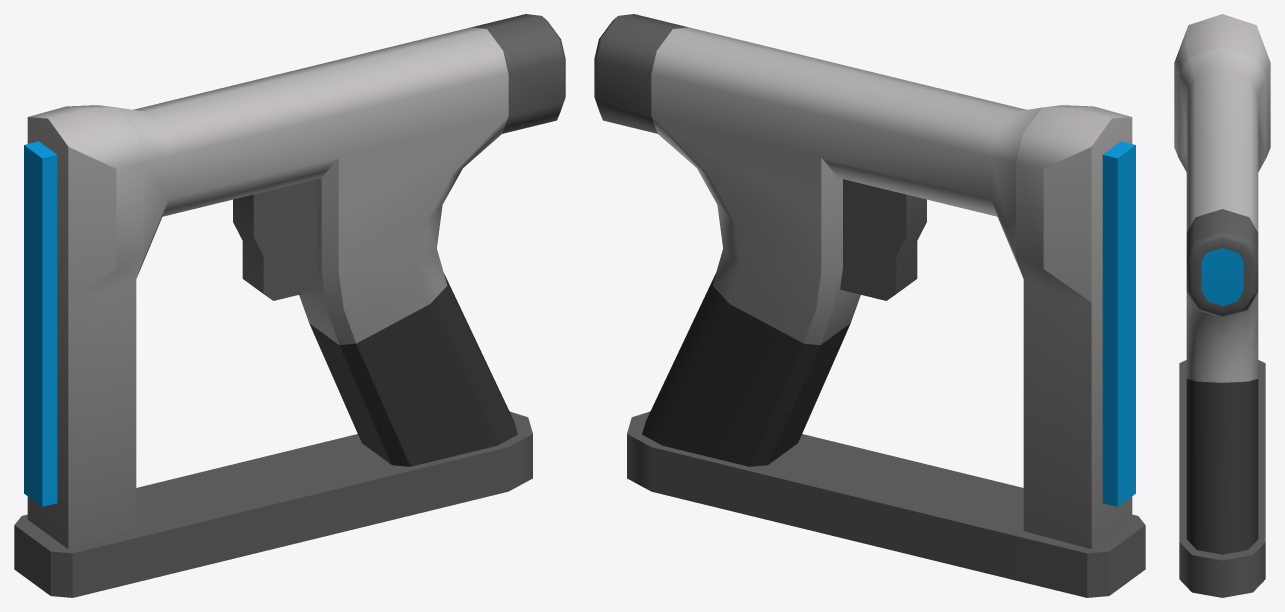
File: Scaner_004.fbx
The picture shows the model from 3 angles, left to right: view 1: azimuth 30°, elevation 25°; view 2: azimuth 150°, elevation 25°; view 3: azimuth 270°, elevation 25°; orthographic projection. The views are drawn at different scales.
Visible parts, largest first — view 1: Scaner_004; view 2: Scaner_004; view 3: Scaner_004.
Boxes of the visible parts, bbox=[...] form: Scaner_004: bbox=[14, 14, 565, 597]; Scaner_004: bbox=[594, 14, 1145, 597]; Scaner_004: bbox=[1174, 14, 1270, 597].
Size of the model in its own units: 37.42 by 7.24 by 31.99.
